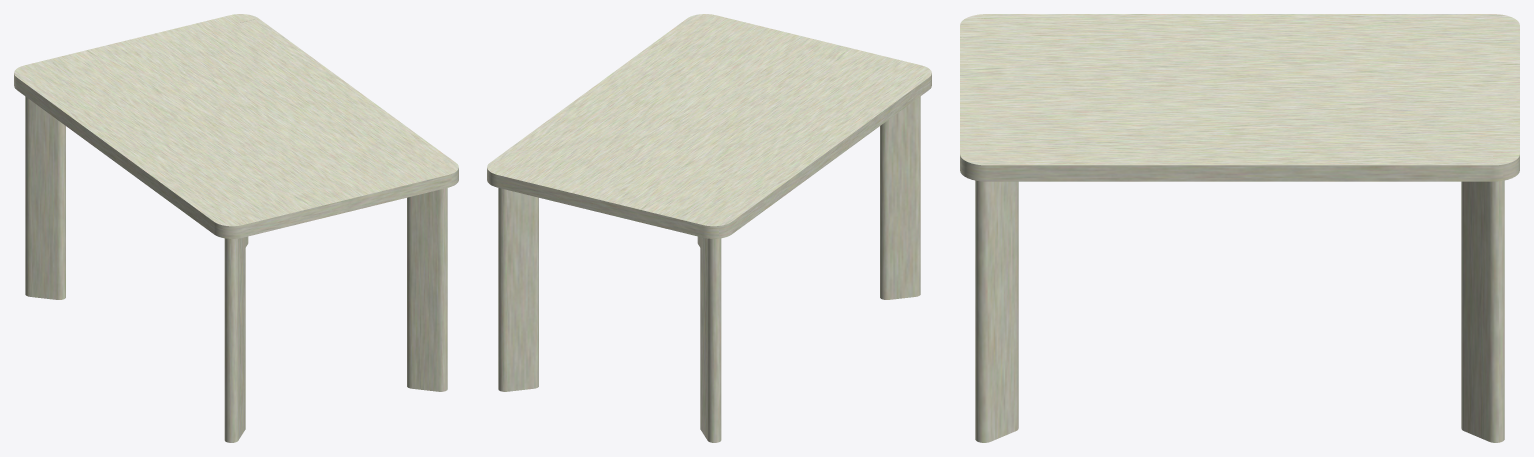
File: kitchen_table.dae
3 renders of one model, left to right at view 1: azimuth 30°, elevation 25°; view 2: azimuth 150°, elevation 25°; view 3: azimuth 270°, elevation 25°, orthographic. The views are drawn at different scales.
Parts seen in each view (by area): view 1: kitchen_table; view 2: kitchen_table; view 3: kitchen_table.
Part boxes in pixels (box(x1,y1,x2,y2)): kitchen_table: box(14, 14, 458, 442); kitchen_table: box(487, 14, 931, 442); kitchen_table: box(960, 14, 1519, 442).
Size of the model in its own units: 0.8 by 1.25 by 0.6995.
1 material, 1 textured.
